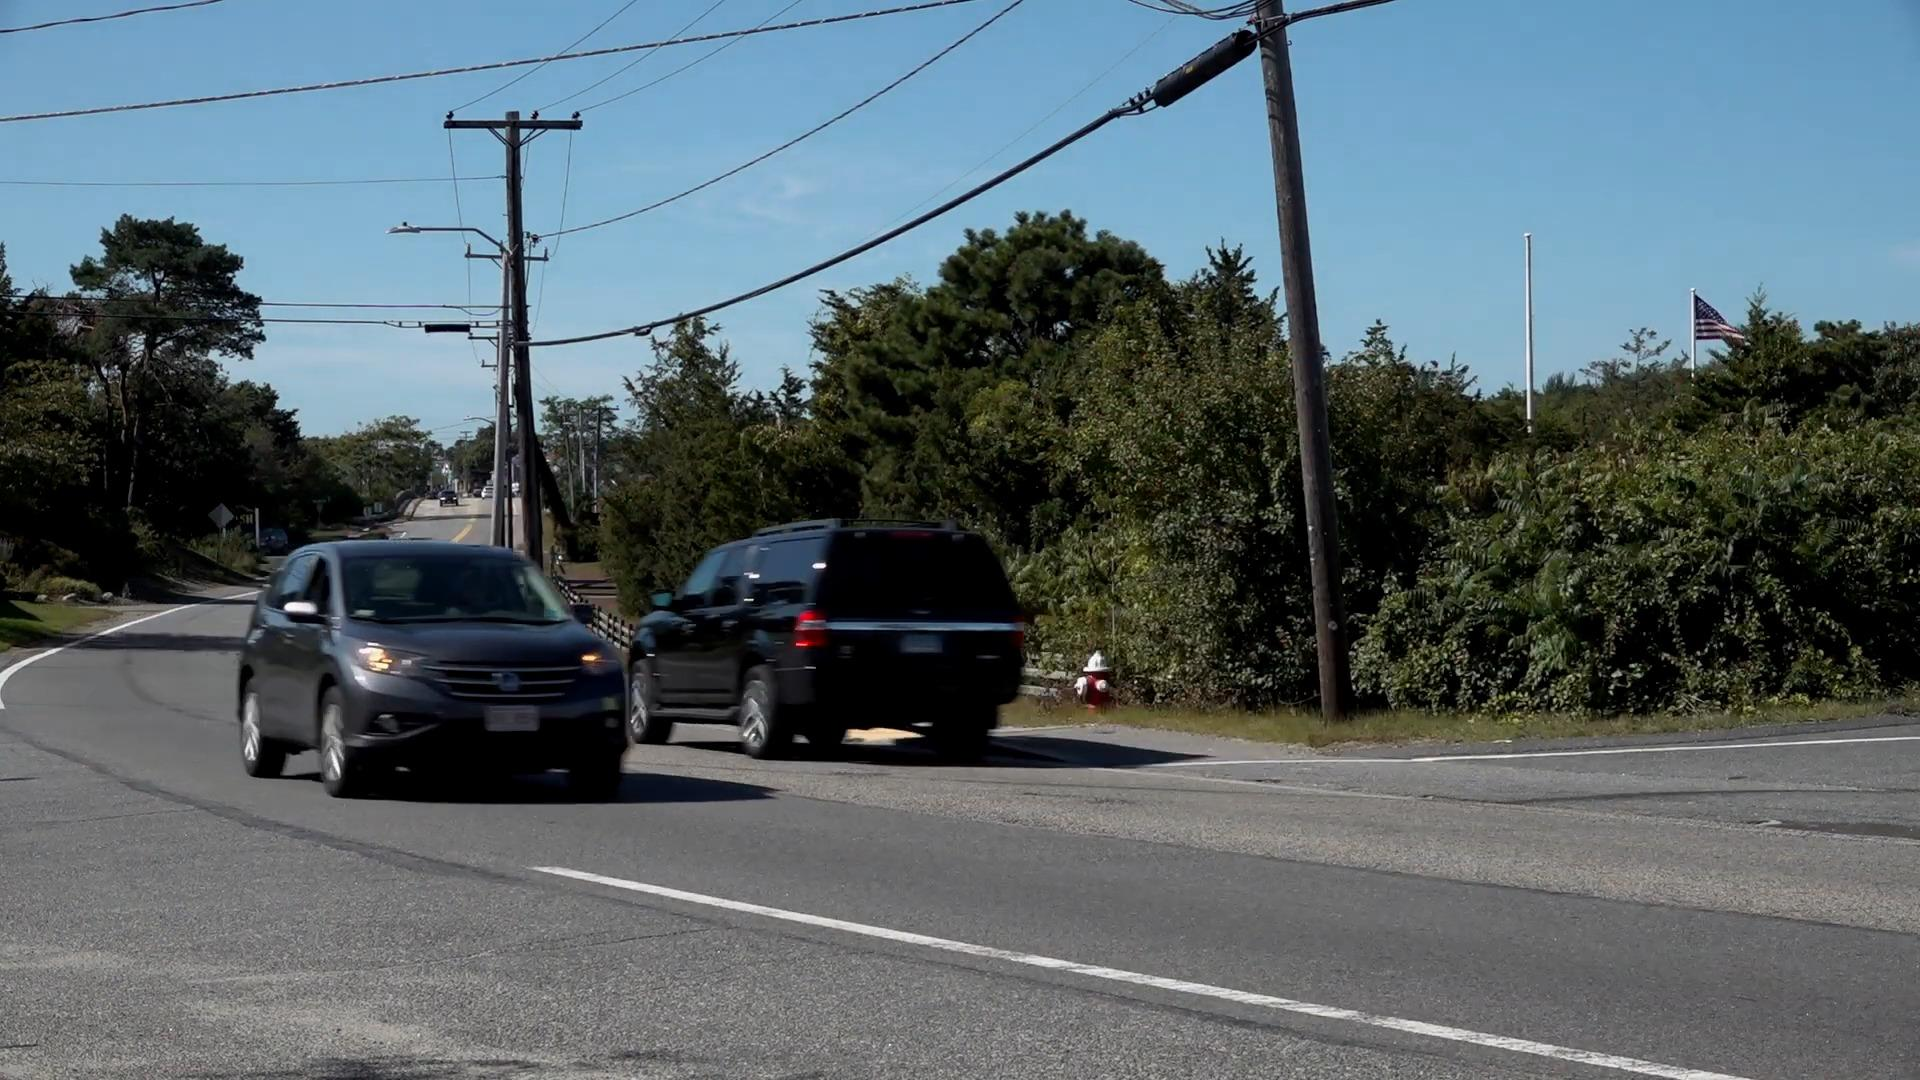suv: (629, 520, 1027, 769), (239, 542, 629, 795)
